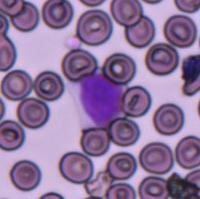M: (72, 70, 125, 128)
